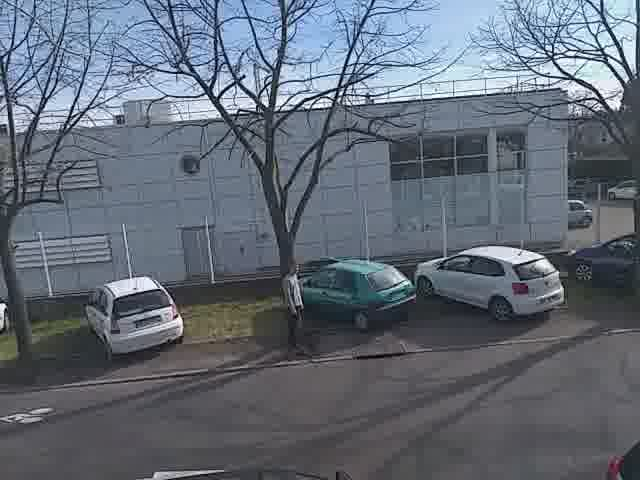persona: (274, 255, 309, 360)
